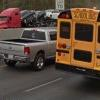Bus: (53, 4, 100, 75)
